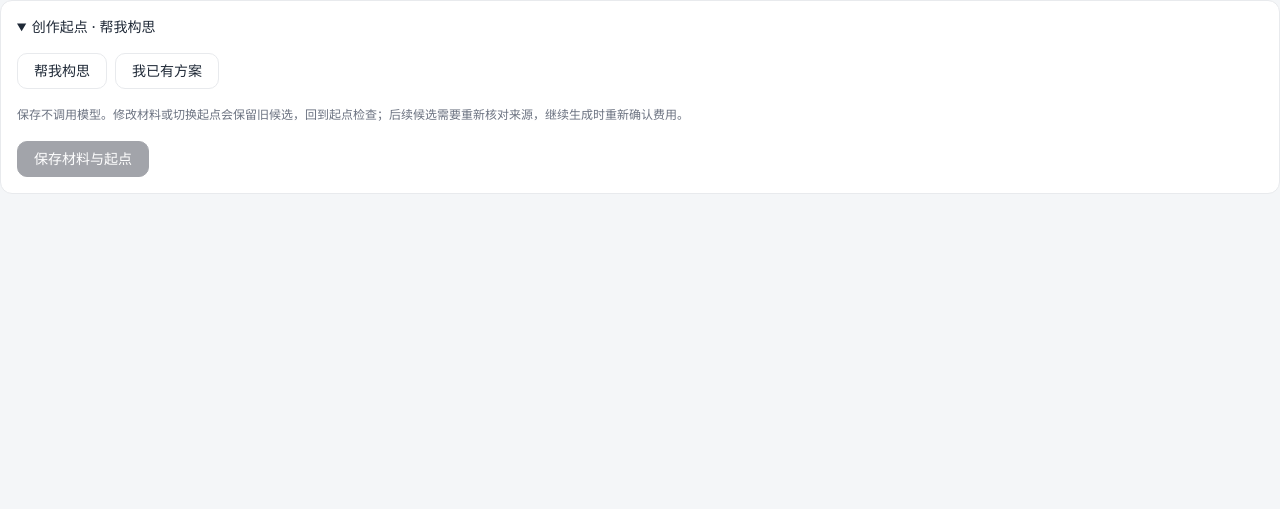
Test: 作者材料入口 › 冲突后保留输入，不伪装保存成功
This screenshot has width=1280, height=509.
Click the button "我已有方案" at (167, 71), box left=115, top=53, right=219, bottom=89
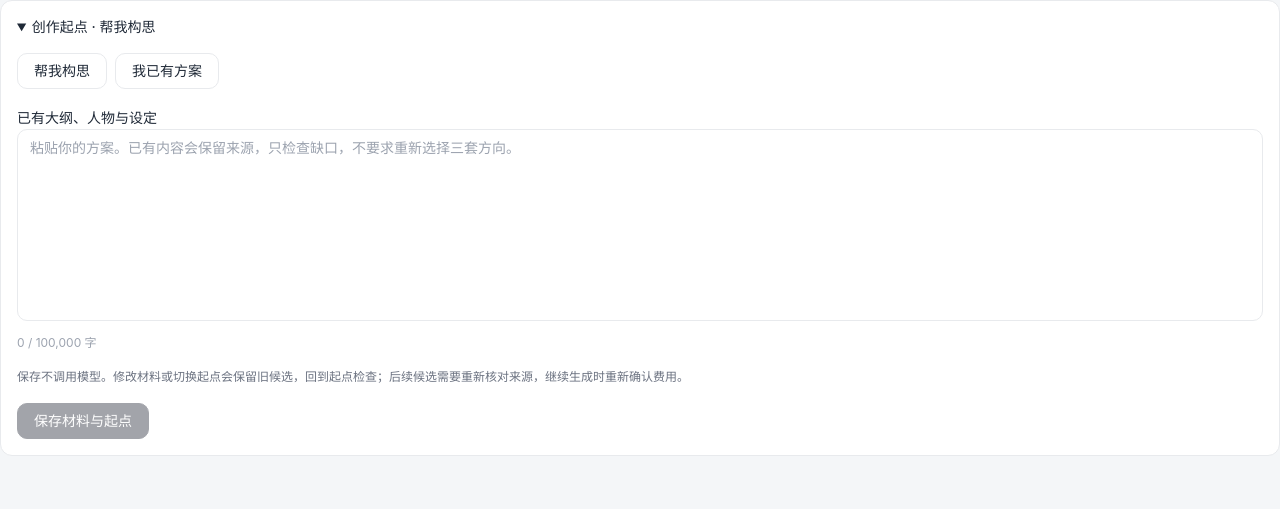
Type "不可丢失的构思" into the text box labelled "已有大纲、人物与设定" at (640, 225), box left=17, top=129, right=1263, bottom=321
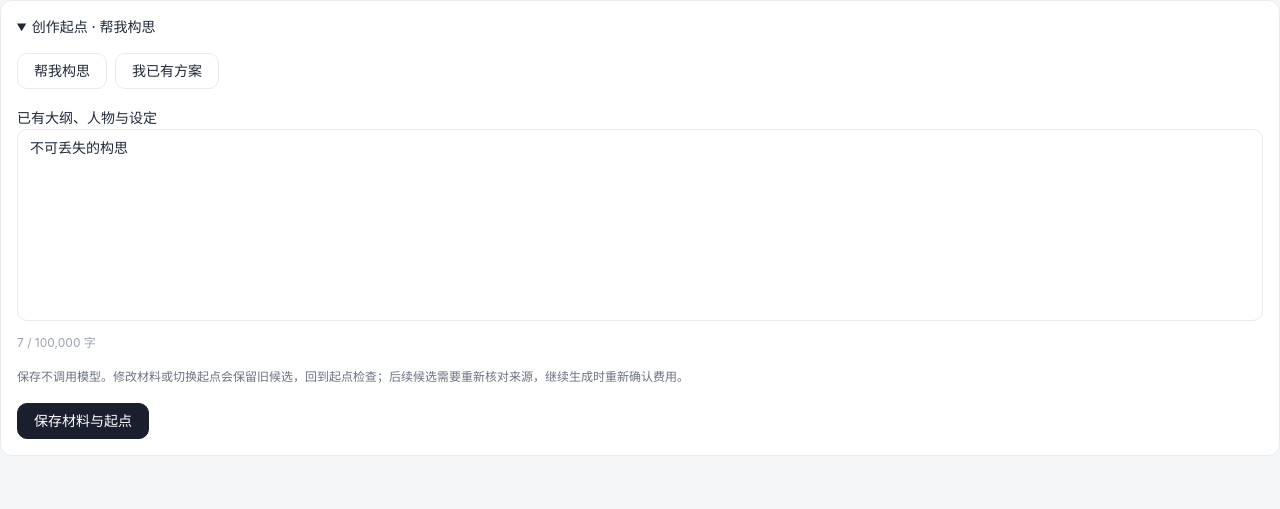
Click the button "保存材料与起点" at (83, 420), box left=17, top=402, right=149, bottom=438
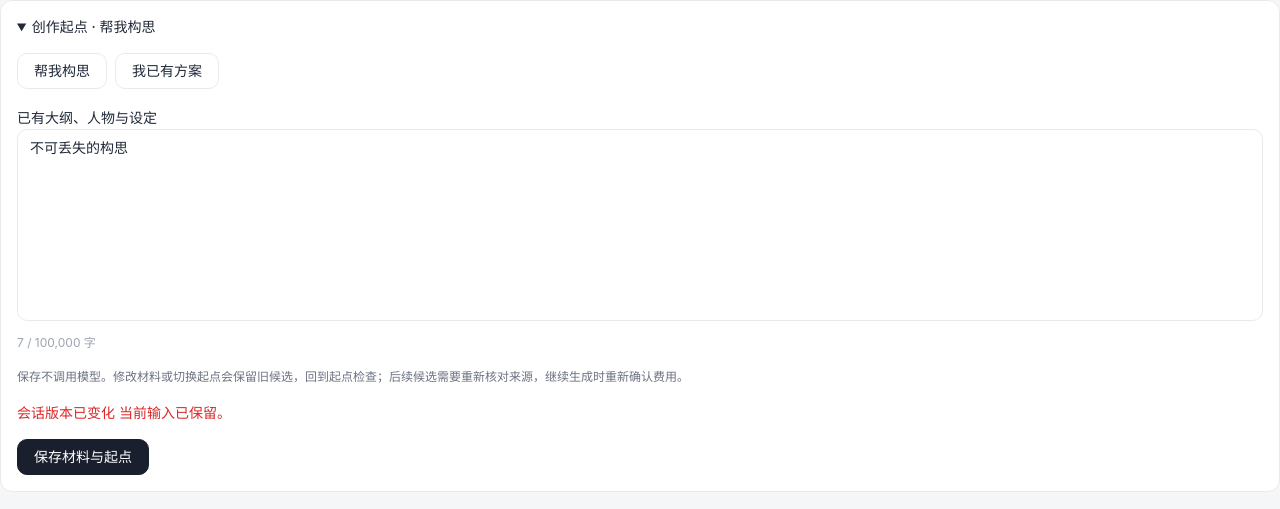
Expected: the message "会话版本已变化 当前输入已保留。" is shown, left=17, top=404, right=231, bottom=420
